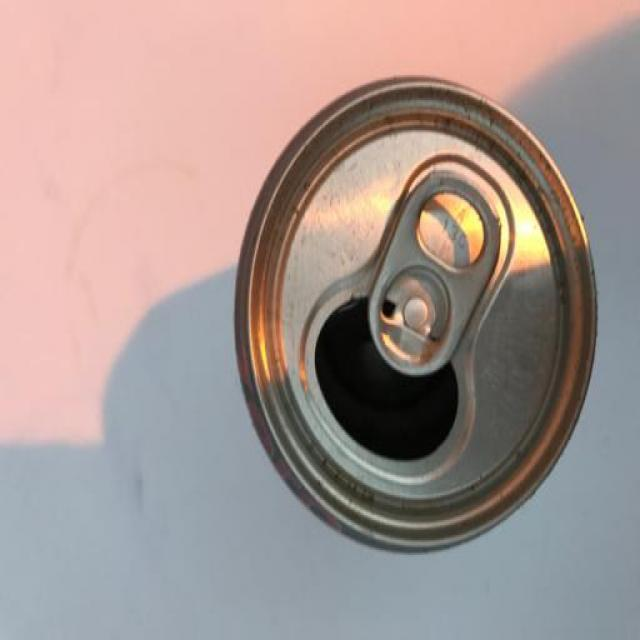metel: (240, 110, 589, 529)
